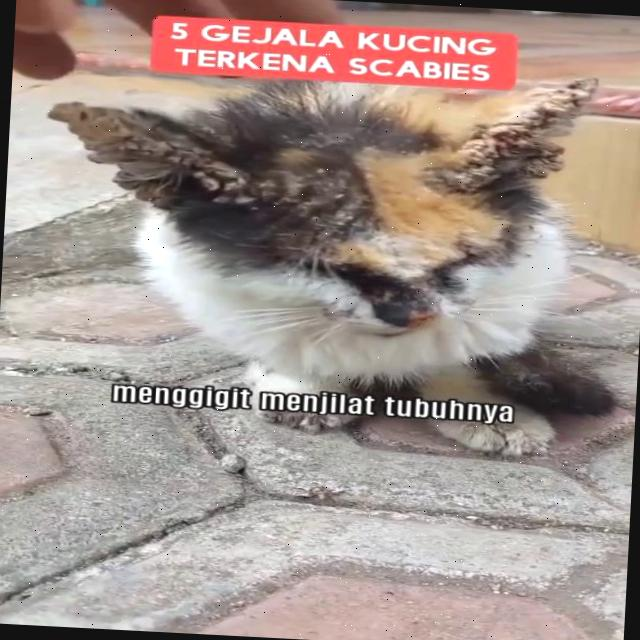cat-scabies: (442, 51, 603, 202), (43, 100, 254, 214)
